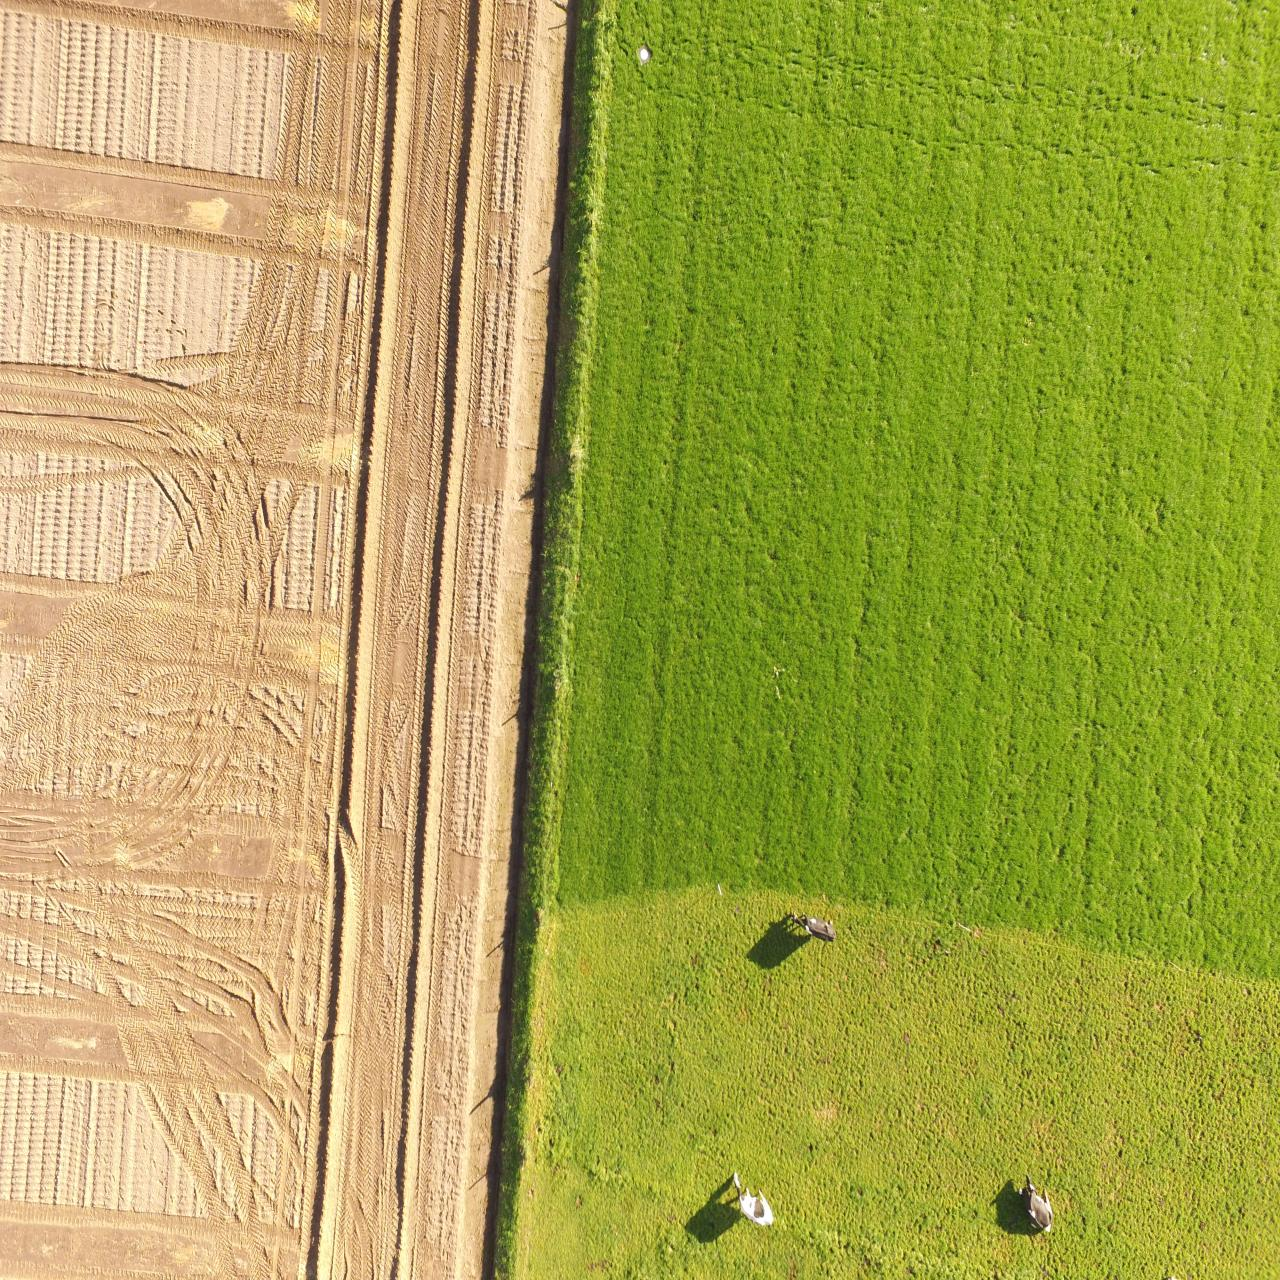cow: (722, 1171, 779, 1234), (1013, 1179, 1057, 1238), (791, 912, 840, 945)
